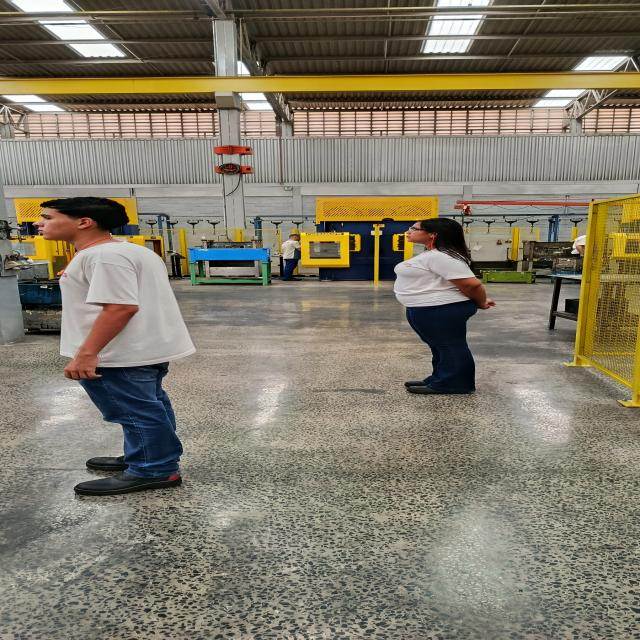oculos-epi: (409, 227, 432, 233)
sem_oculos: (23, 212, 90, 226), (292, 233, 308, 239)
